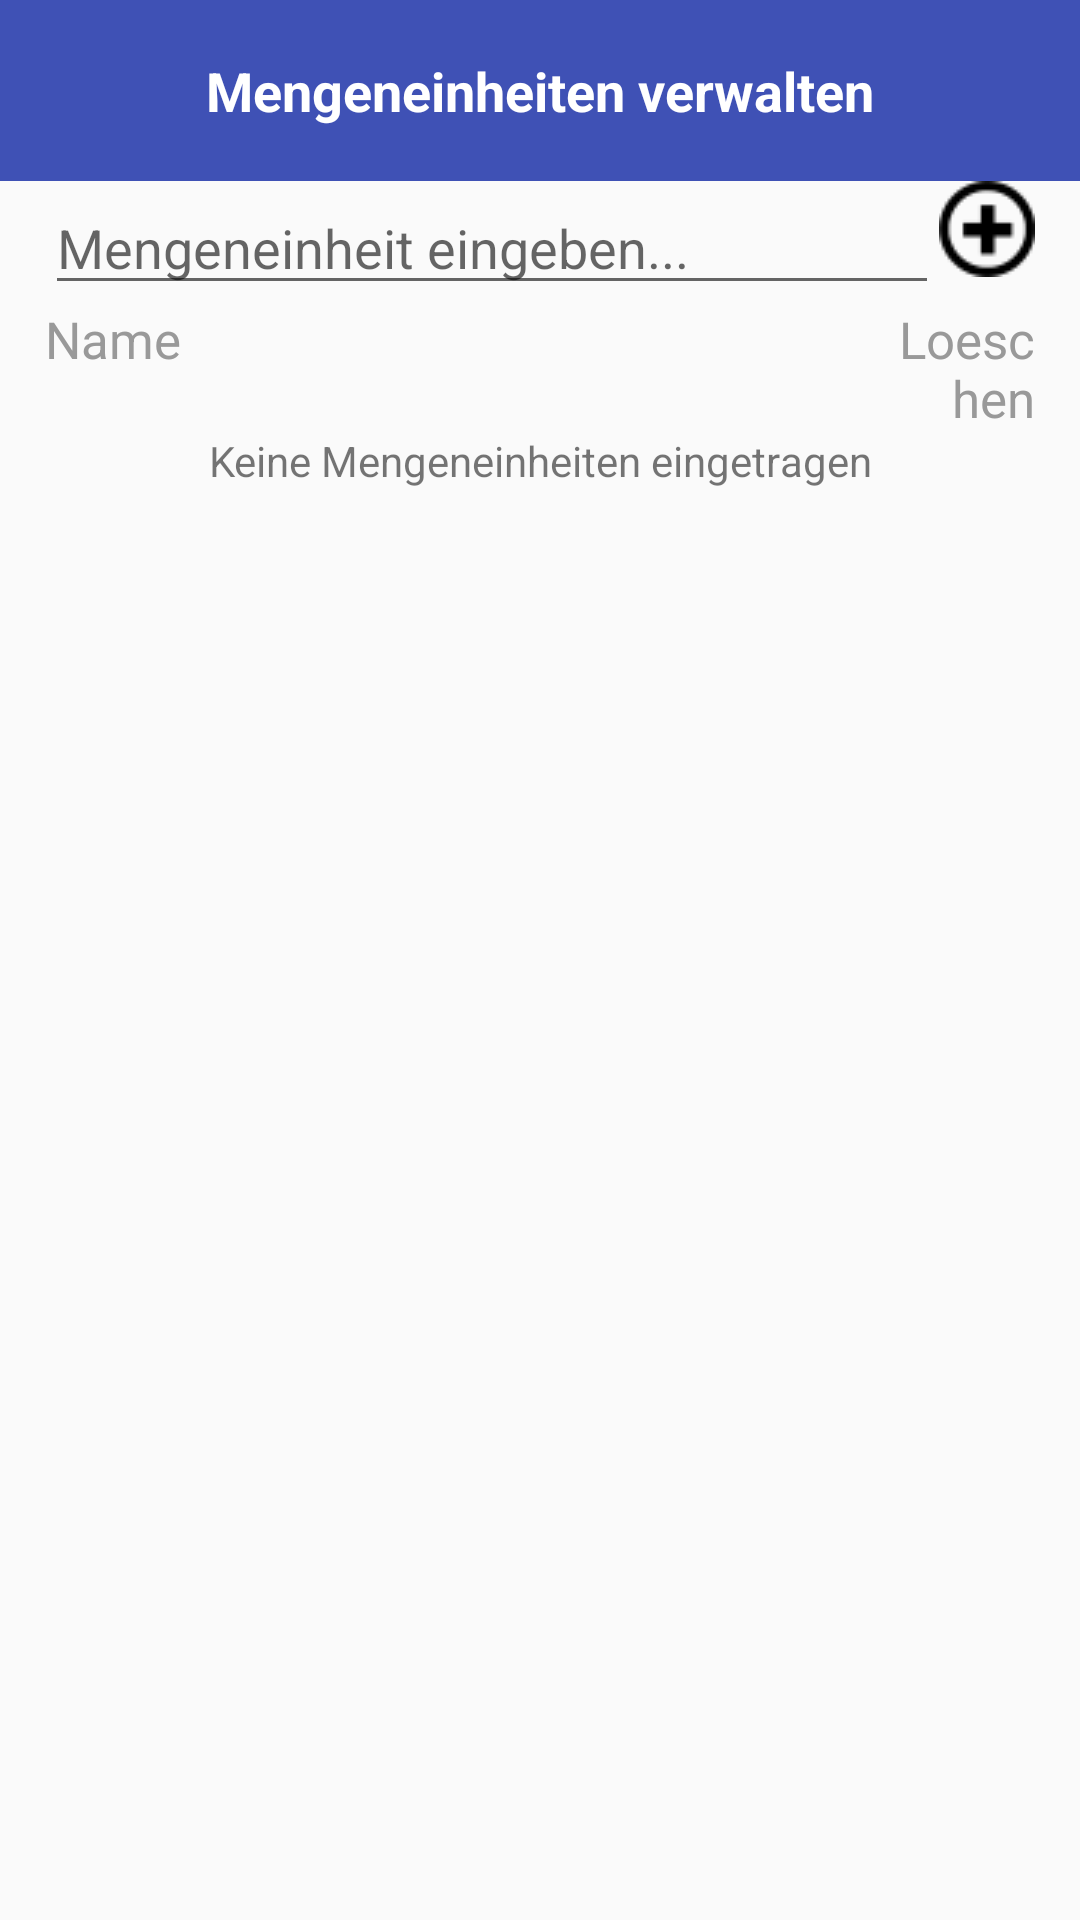

Icon bounding boxes for this 1080x1920 phone screenshot, format (x1, y1, x2, y2):
plus: (939, 181, 1035, 277)
